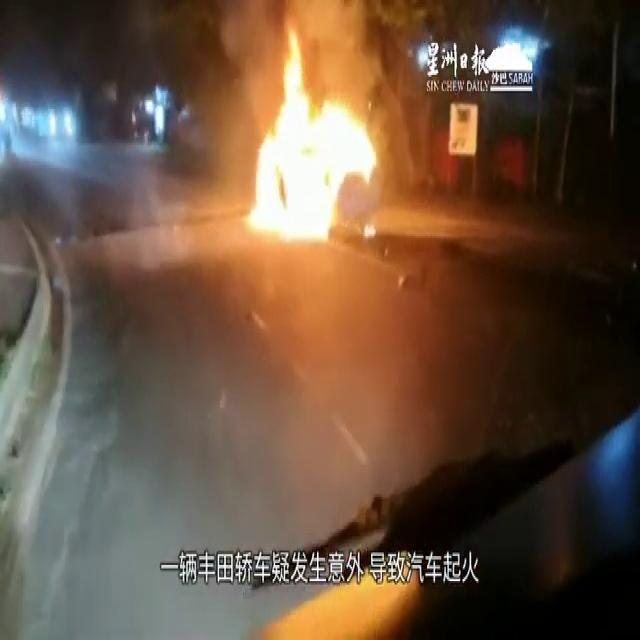Fire: (241, 22, 388, 248)
